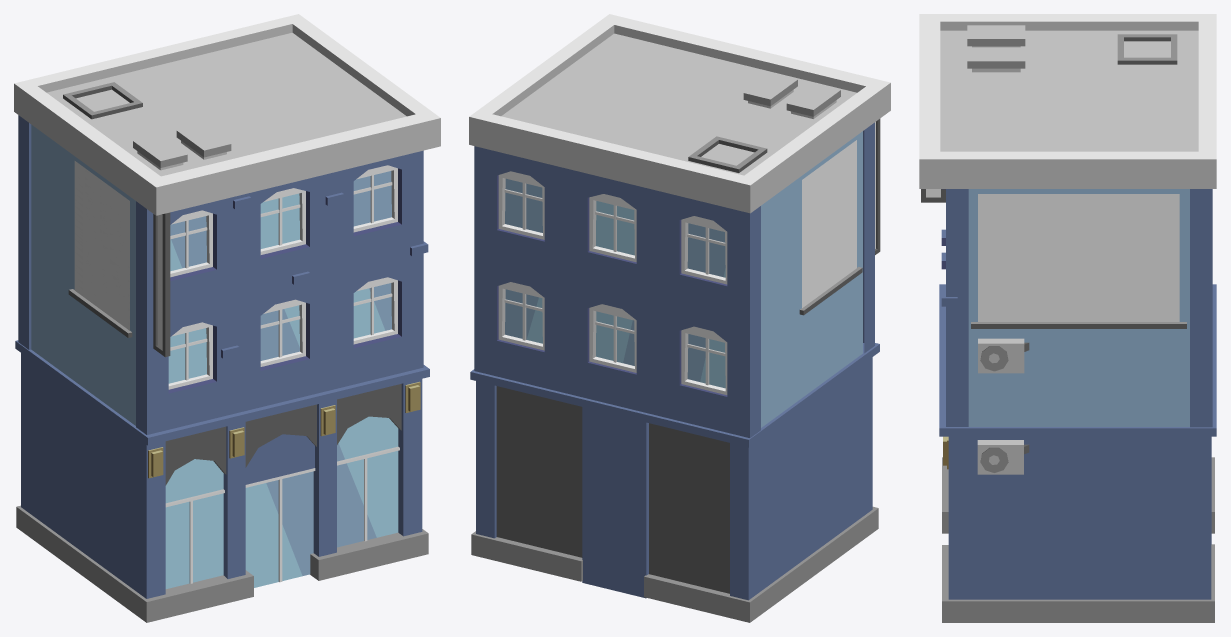
File: hotel_010.fbx
3 views of the same model, side by side, from view 1: azimuth 30°, elevation 25°; view 2: azimuth 150°, elevation 25°; view 3: azimuth 270°, elevation 25° (orthographic). The views are drawn at different scales.
Visible parts, largest first — view 1: hotel_010; view 2: hotel_010; view 3: hotel_010.
Part boxes in pixels (x1,y1,x2,y2): hotel_010: [14, 14, 440, 622]; hotel_010: [469, 14, 890, 622]; hotel_010: [919, 14, 1216, 622].
Bounding box in the file's own units: 610 × 899 × 516.
